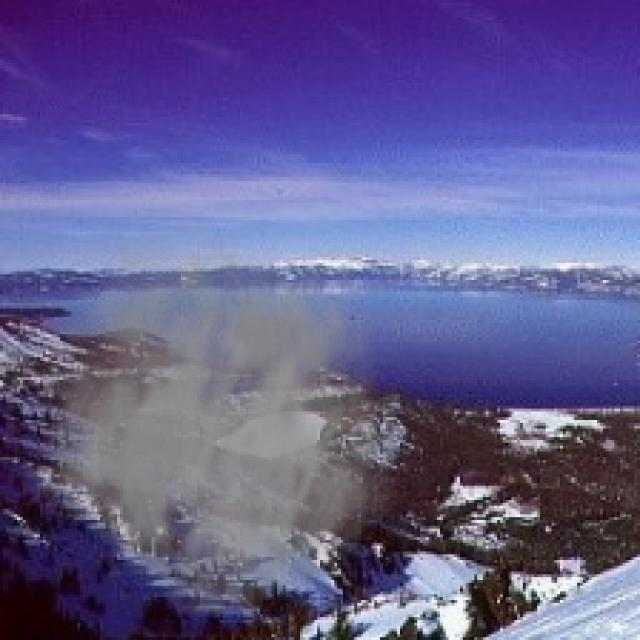smoke: (17, 211, 397, 620)
